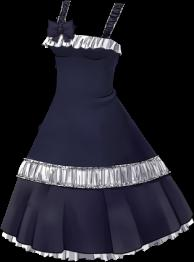Bodice: (41, 0, 124, 92)
Hemline: (0, 219, 193, 261)
Neckline: (61, 0, 116, 37), (46, 31, 120, 48)
Skirt: (1, 93, 193, 261)
Waistline: (15, 169, 172, 189), (24, 154, 158, 167), (41, 42, 120, 53)
